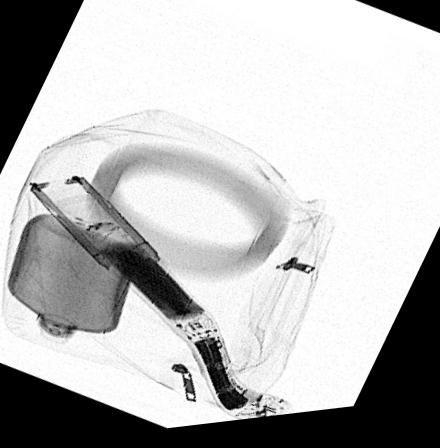Baton: (28, 175, 298, 426)
